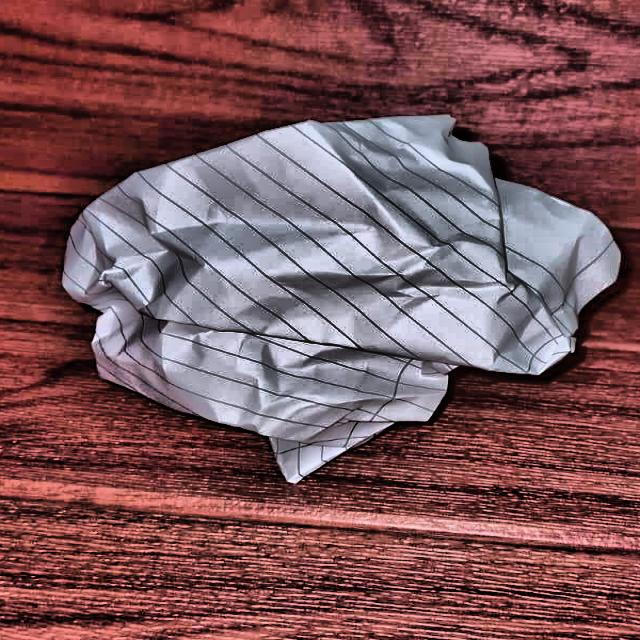paper: (22, 110, 625, 470)
